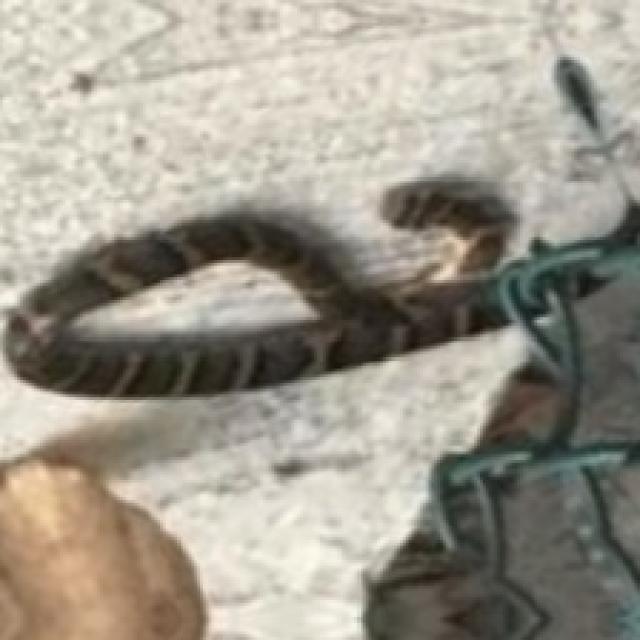king cobra: (6, 174, 514, 394), (6, 177, 514, 394)
